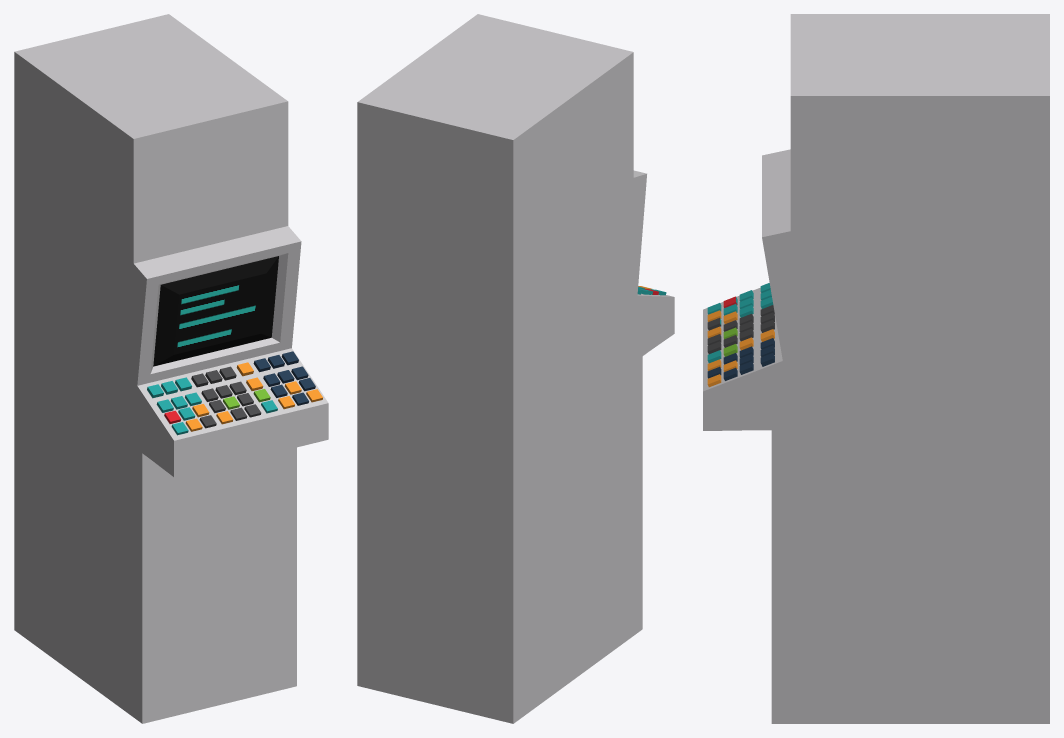
Rendered from Machine3.fbx.
3 renders of one model, left to right at view 1: azimuth 30°, elevation 25°; view 2: azimuth 150°, elevation 25°; view 3: azimuth 270°, elevation 25°, orthographic. The views are drawn at different scales.
Parts seen in each view (by area): view 1: Cube_30, Cube.042_33, Cube.024_31, Cube.041_32, Cube.044_35, Cube.047_38, Cube.045_36; view 2: Cube_30; view 3: Cube_30, Cube.042_33, Cube.041_32, Cube.024_31.
Part boxes in pixels (x1=…): Cube_30: x1=14, y1=14, x2=328, y2=723; Cube.042_33: x1=263, y1=366, x2=322, y2=409; Cube.024_31: x1=156, y1=392, x2=216, y2=435; Cube.041_32: x1=201, y1=381, x2=261, y2=424; Cube.044_35: x1=147, y1=377, x2=191, y2=398; Cube.047_38: x1=253, y1=351, x2=298, y2=372; Cube.045_36: x1=191, y1=366, x2=236, y2=387; Cube_30: x1=357, y1=14, x2=674, y2=723; Cube_30: x1=703, y1=14, x2=1049, y2=723; Cube.042_33: x1=707, y1=346, x2=753, y2=387; Cube.041_32: x1=707, y1=313, x2=753, y2=354; Cube.024_31: x1=707, y1=290, x2=753, y2=330.
Size of the model in its own units: 29.39 by 105 by 52.61.
